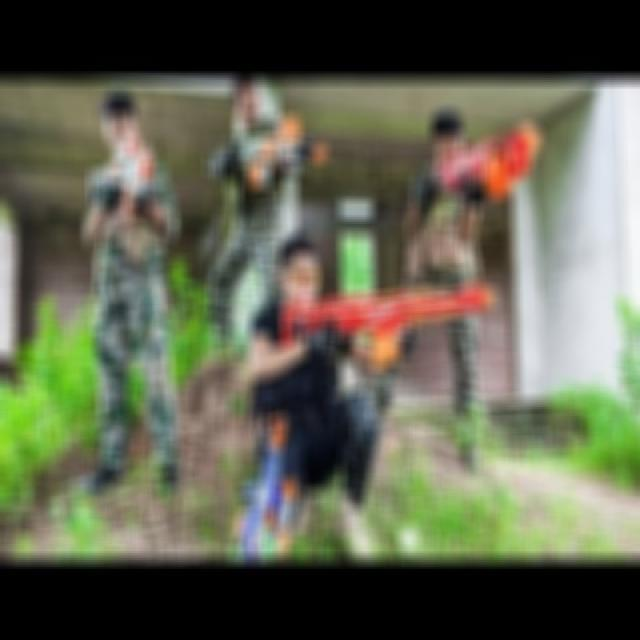Nerf gun: (281, 268, 500, 368), (223, 408, 300, 563), (418, 116, 546, 198), (220, 111, 328, 191), (78, 131, 157, 221)
